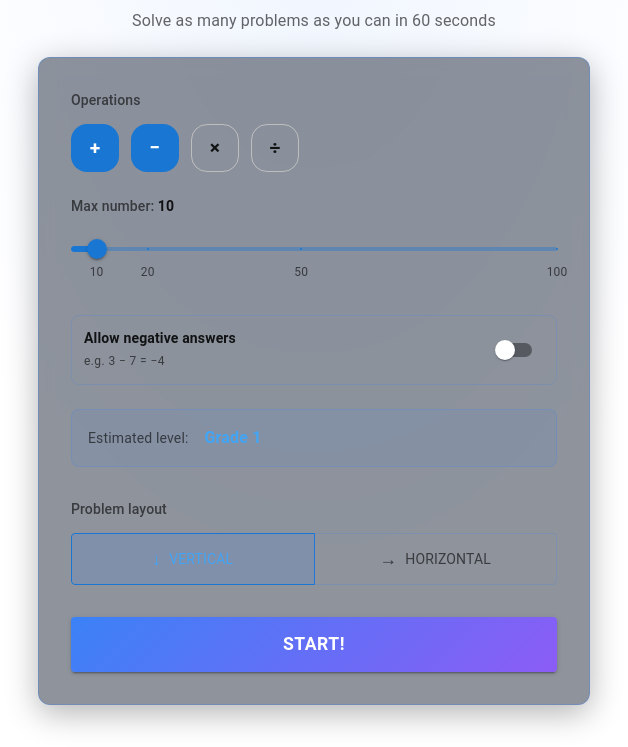
Scenario: MinuteMath page – answering problems › Submit button is enabled when input has a value
(page scrolled)
Click the button "Start!" at (314, 645), box [71, 617, 557, 672]
(page scrolled)
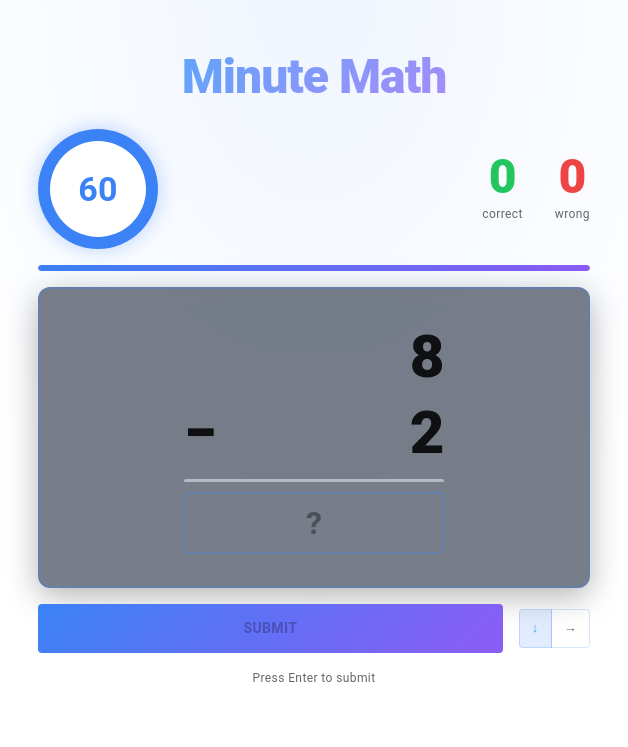
Type "5" into the field named "answer input" at (314, 523), box [184, 492, 444, 554]
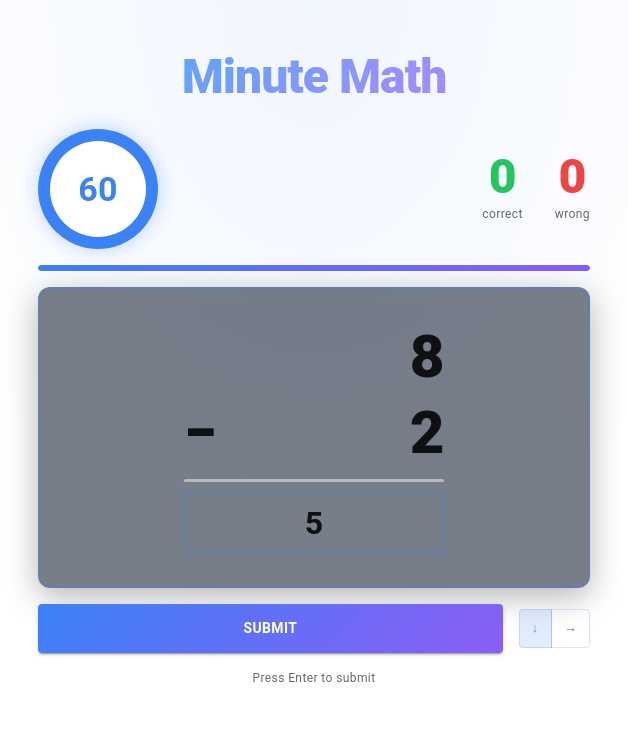
Now the button "Submit" is enabled, box [38, 604, 503, 653]
